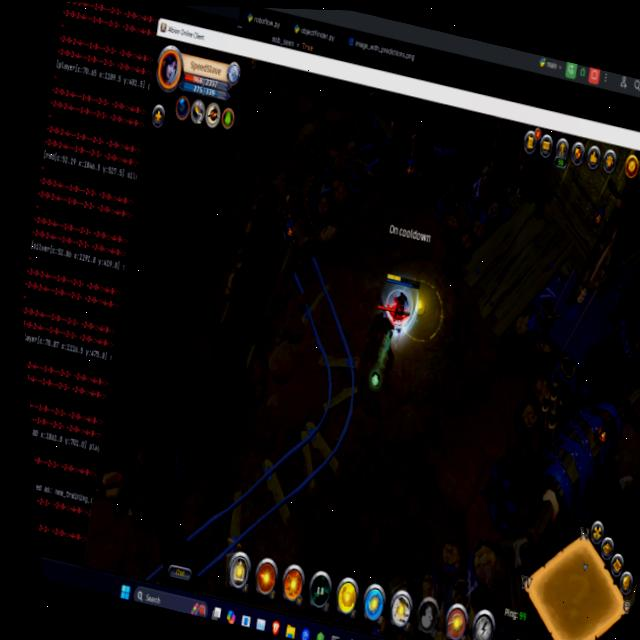ore: (355, 297, 418, 389)
red: (372, 267, 427, 345)
